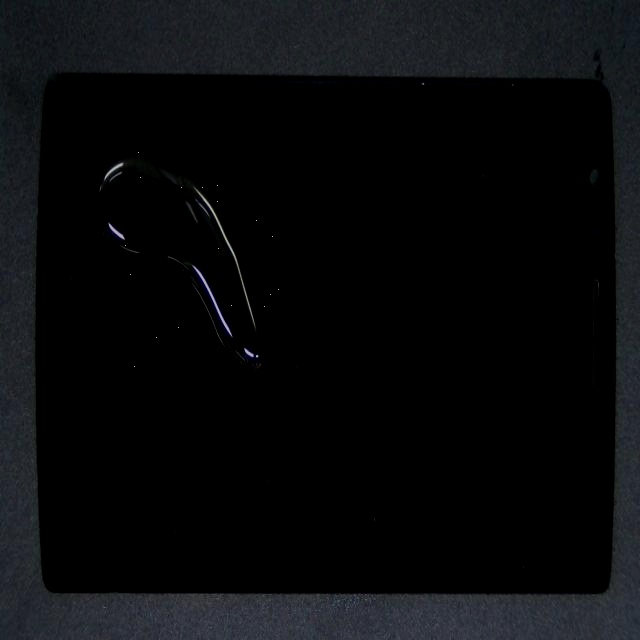oil: (110, 97, 264, 243)
